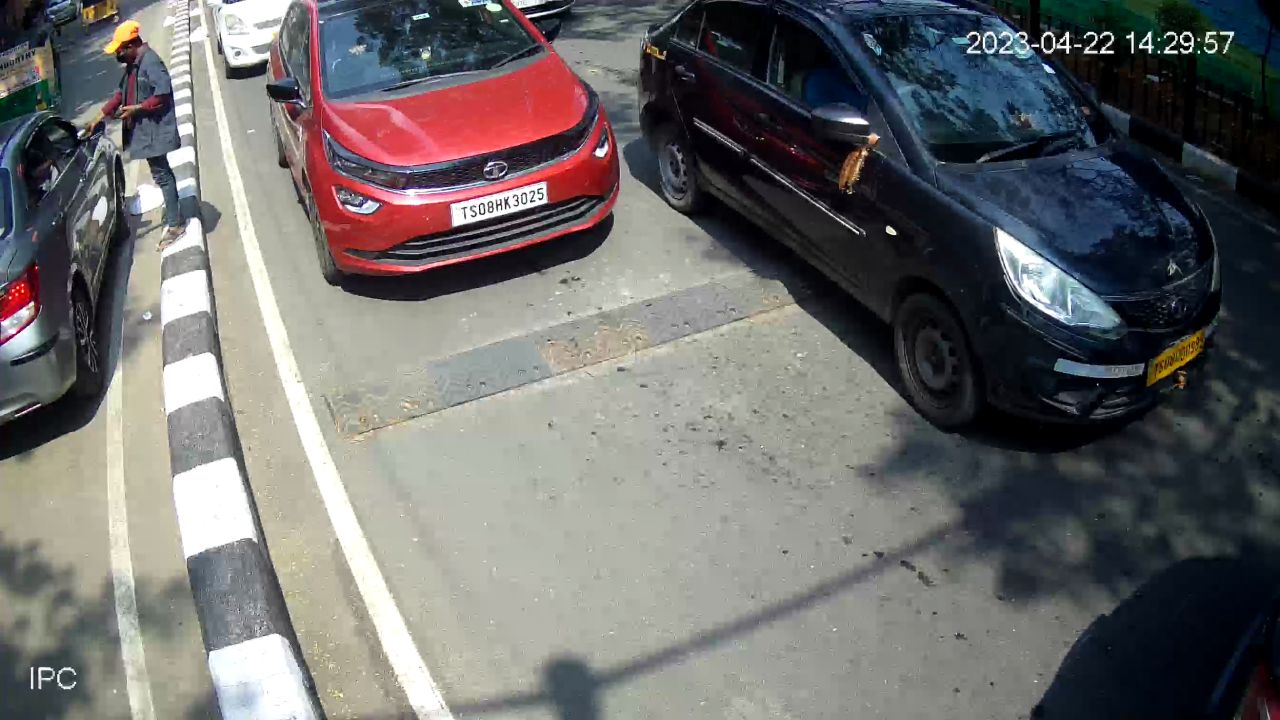license_plate: (448, 178, 551, 236), (1143, 325, 1211, 396)
